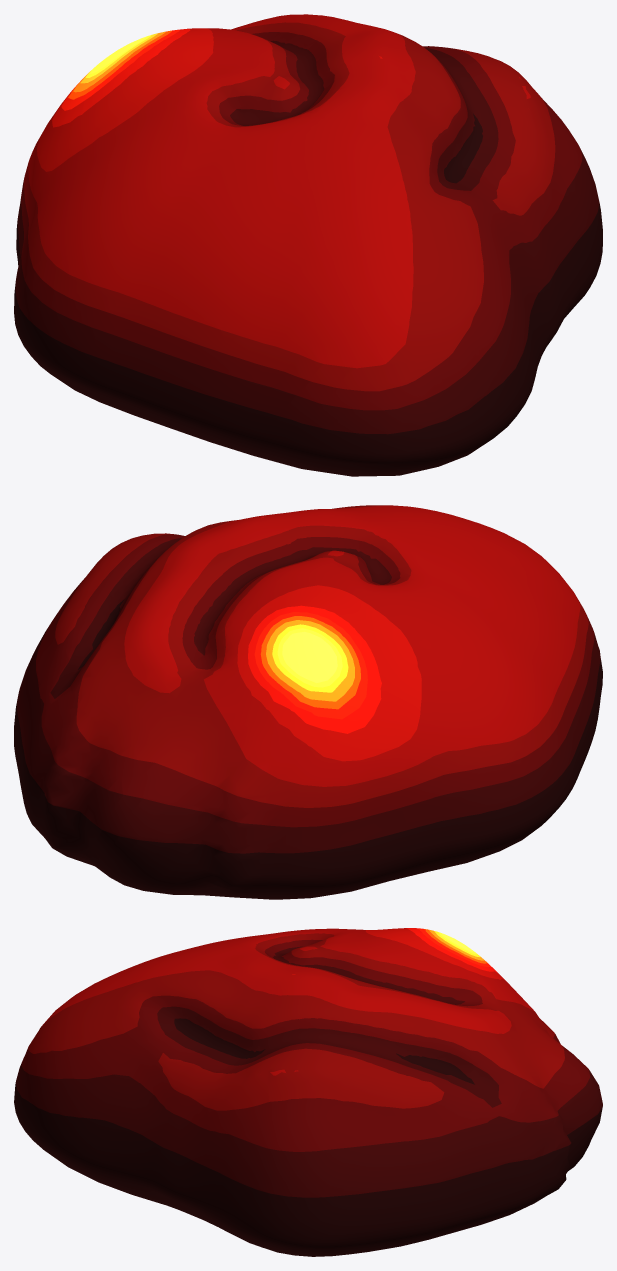
Rendered from blob_big_123.glb.
3 views of the same model, one above another, from view 1: azimuth 30°, elevation 25°; view 2: azimuth 150°, elevation 25°; view 3: azimuth 270°, elevation 25° (orthographic). The views are drawn at different scales.
Parts seen in each view (by area): view 1: blob_big_123; view 2: blob_big_123; view 3: blob_big_123.
Part boxes in pixels (left/top/right/bottom): blob_big_123: left=14, top=14, right=602, bottom=476; blob_big_123: left=14, top=505, right=602, bottom=899; blob_big_123: left=14, top=928, right=602, bottom=1256.
Size of the model in its own units: 19.55 by 10.91 by 23.48.
